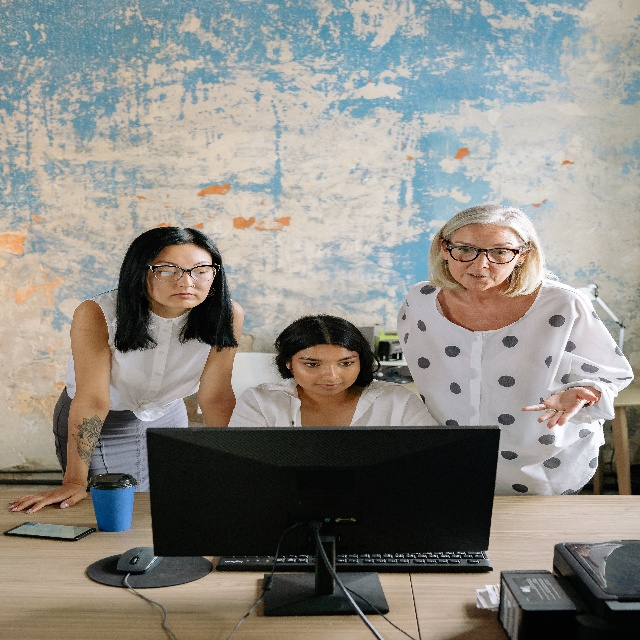Gafas: (445, 240, 523, 266), (150, 261, 220, 287)
Sin_guantes: (522, 379, 599, 436), (9, 482, 88, 515)
